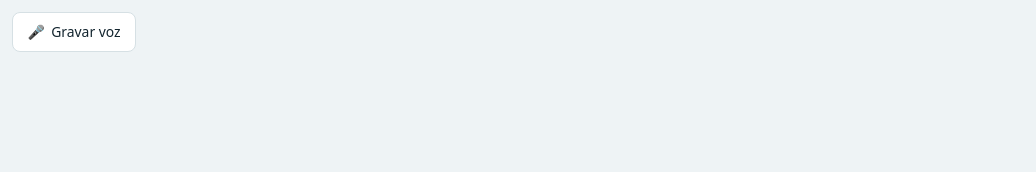
Test: 32-34. gravador de voz › 32. grava, para e oferece ouvir antes de enviar
The image size is (1036, 172).
Click the button with aria-label "gravar mensagem de voz" at coordinates (74, 32), box x1=12 y1=12 x2=136 y2=52
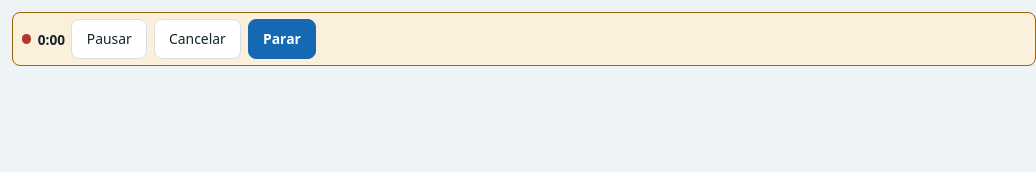
Check: the button "Parar" is shown
Click the button "Parar" at coordinates (282, 39), box x1=248 y1=19 x2=316 y2=59
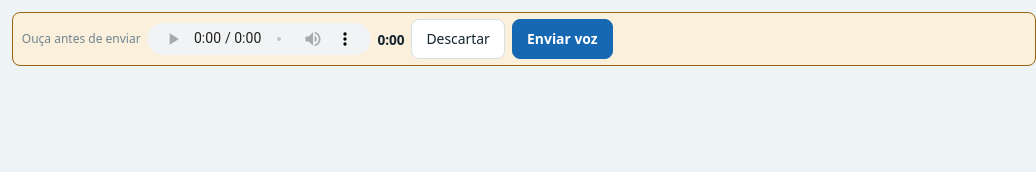
Check: the text "Ouça antes de enviar" is shown, box x1=22 y1=30 x2=141 y2=48
Check: the button "Enviar voz" is shown, box x1=512 y1=19 x2=613 y2=59
